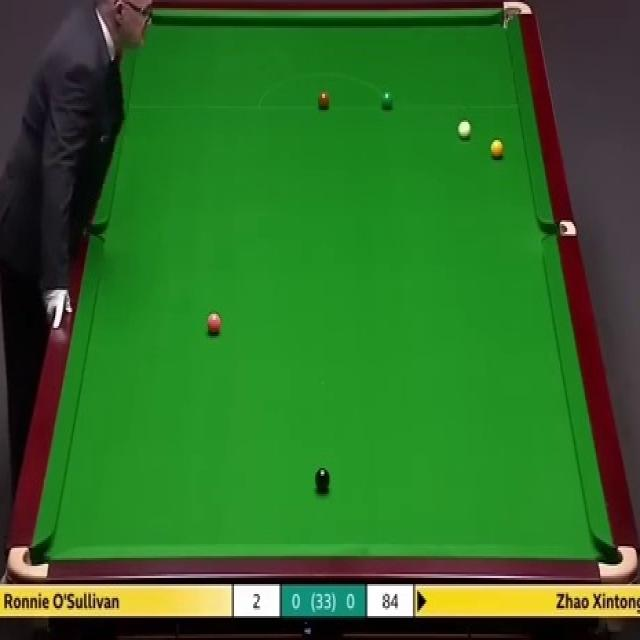pocket: (597, 542, 637, 583), (6, 542, 51, 578), (499, 0, 532, 32), (540, 218, 576, 237), (84, 223, 102, 239)
